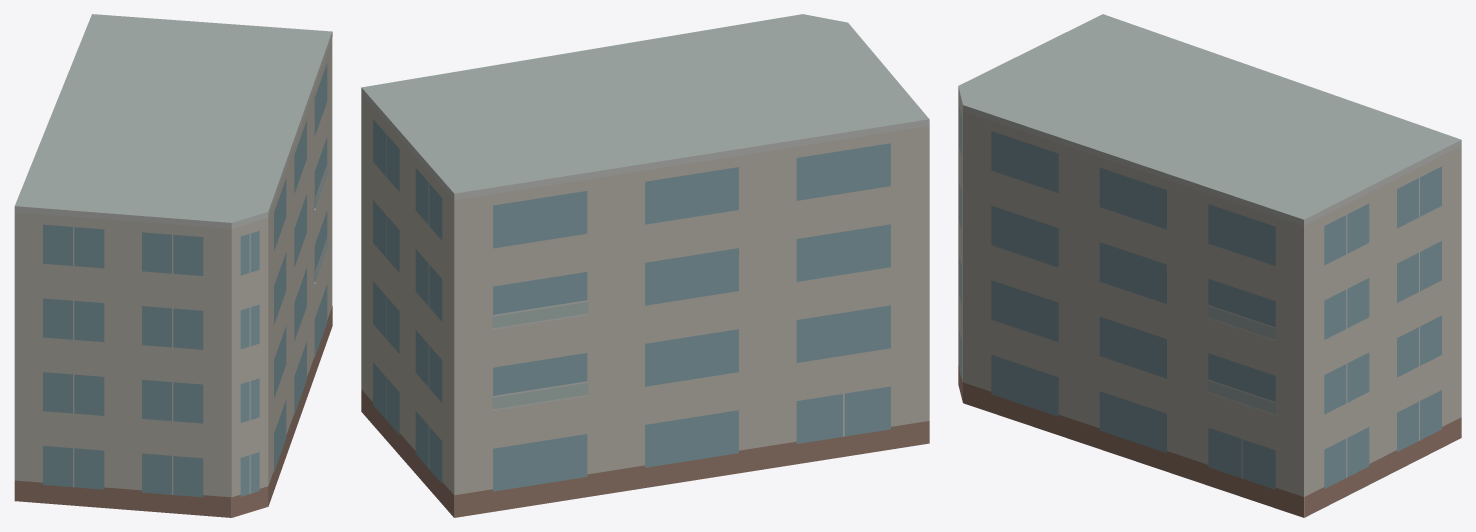
File: survey-upis-33044252.glb
The picture shows the model from 3 angles, left to right: view 1: azimuth 30°, elevation 25°; view 2: azimuth 150°, elevation 25°; view 3: azimuth 270°, elevation 25°; orthographic projection. The views are drawn at different scales.
Visible parts, largest first — view 1: survey-upis-33044252.tmp; view 2: survey-upis-33044252.tmp; view 3: survey-upis-33044252.tmp.
Boxes of the visible parts, x1=… form: survey-upis-33044252.tmp: x1=14, y1=14, x2=332, y2=517; survey-upis-33044252.tmp: x1=361, y1=14, x2=929, y2=517; survey-upis-33044252.tmp: x1=958, y1=14, x2=1461, y2=517.
Size of the model in its own units: 17.55 by 11.85 by 18.14.
